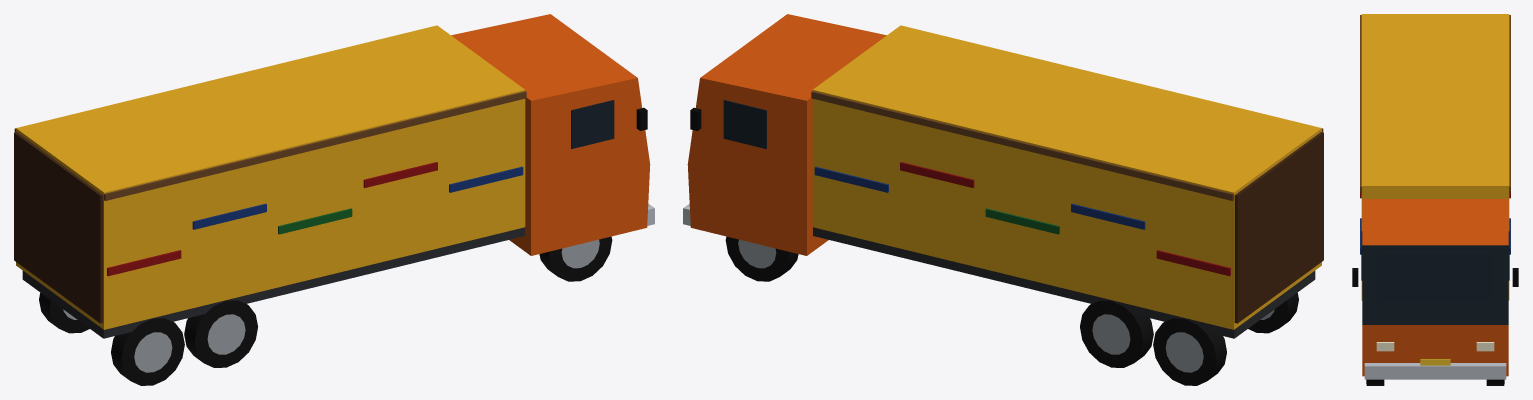
The model's file is truck.glb.
3 views of the same model, side by side, from view 1: azimuth 30°, elevation 25°; view 2: azimuth 150°, elevation 25°; view 3: azimuth 270°, elevation 25° (orthographic). The views are drawn at different scales.
Parts seen in each view (by area): view 1: truck_body, wheel_2r, wheel_1r.002, wheel_0r.002, wheel_2l; view 2: truck_body, wheel_2l, wheel_1l.002, wheel_0l.002, wheel_2r; view 3: truck_body.
Boxes of the visible parts, x1,y1,x2,y2 form: truck_body: (14,14,654,338); wheel_2r: (111,318,184,385); wheel_1r.002: (184,300,257,367); wheel_0r.002: (539,236,612,281); wheel_2l: (39,293,89,333); truck_body: (683,14,1323,338); wheel_2l: (1153,318,1226,385); wheel_1l.002: (1080,300,1153,367); wheel_0l.002: (725,236,798,281); wheel_2r: (1248,293,1298,333); truck_body: (1352,14,1518,379).
Size of the model in its own units: 9.1 by 3.25 by 2.82.
Materials: 2 (1 with a texture image).
